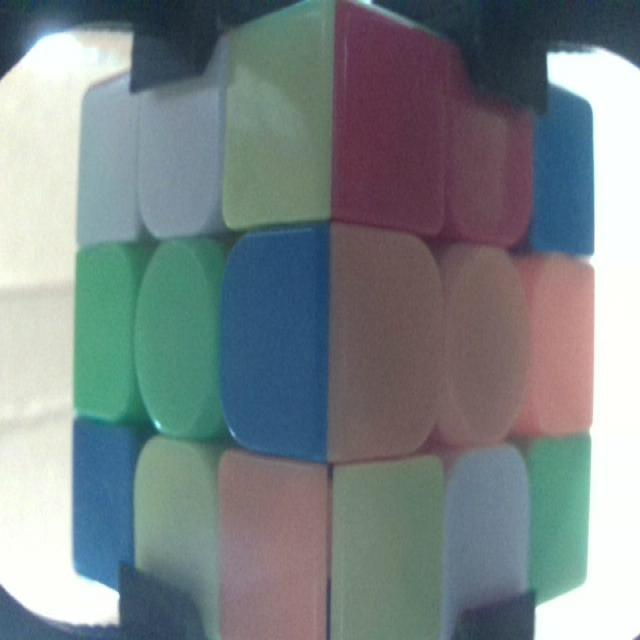r: (335, 2, 447, 235), (215, 458, 327, 640), (450, 44, 530, 245)
w: (140, 49, 227, 236), (445, 447, 529, 628), (76, 78, 140, 242)
